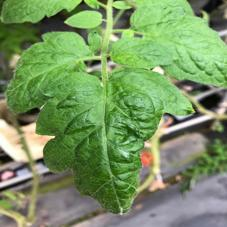Healthy: (35, 72, 166, 218), (5, 31, 88, 114), (108, 35, 175, 70), (65, 8, 105, 31)
